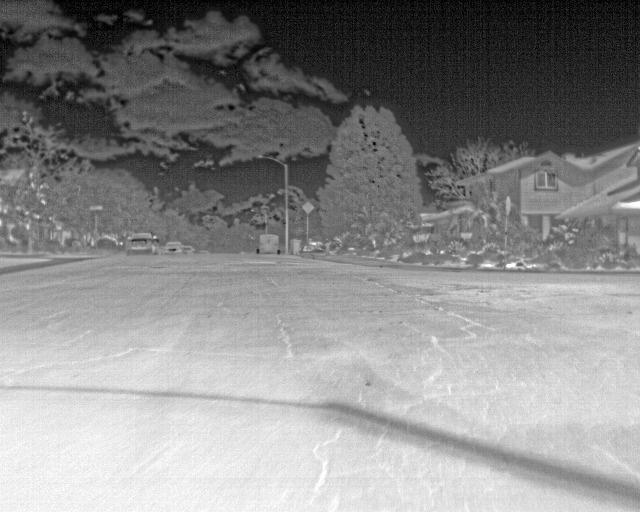car: (126, 229, 157, 253), (257, 232, 277, 254), (164, 240, 181, 255)
